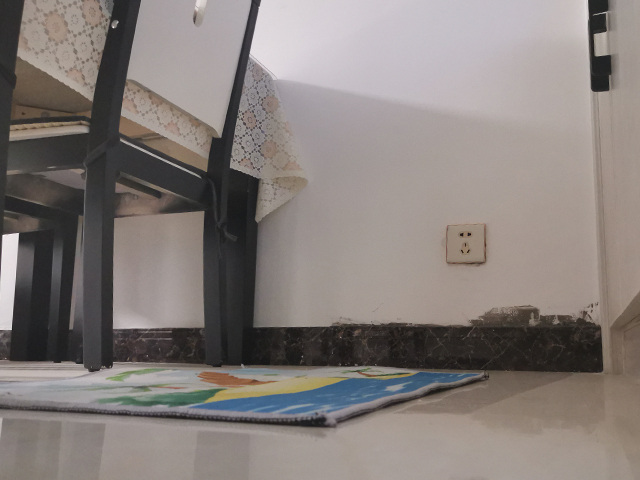carpet: (1, 363, 490, 431)
stool: (1, 1, 265, 372)
table: (2, 1, 282, 367)
